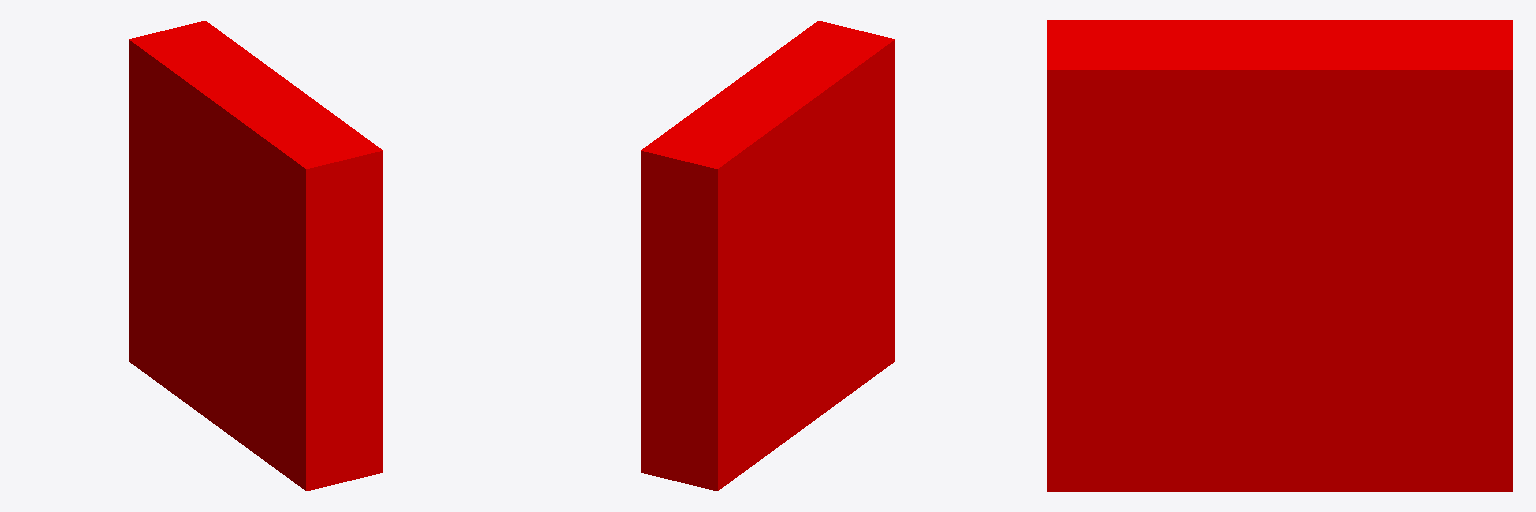
The robot description file, URDF, robot "striker":
<?xml version="0.0" ?>
<robot name="striker">
    <link name="baseLink">

        <contact>
       <!--      <lateral_friction value="100.0"/> -->
            <lateral_friction value="1.0"/>
            <rolling_friction value="0.0"/>
            <inertia_scaling value="3.0"/>
            <contact_cfm value="0.0"/>
            <contact_erp value="1.0"/>
        </contact>

        <inertial>
            <origin rpy="0 0 0" xyz="0 0 0"/>
             <mass value="0.5"/>
             <inertia ixx="1" ixy="0" ixz="0" iyy="1" iyz="0" izz="1"/>
        </inertial>

        <visual>
            <origin rpy="0 0 0" xyz="0 0 0"/>
            <geometry>
              <box size=".025 .1 .1"/>
            </geometry>
             <material name="red">
                <color rgba="1 0 0 1"/>
            </material>
        </visual>

        <collision>
            <origin rpy="0 0 0" xyz="0 0 0"/>
            <geometry>
                <box size=".025 .1 .1"/>
            </geometry>
        
<!--           <surface>
            <bounce>
              <restitution_coefficient>0.9</restitution_coefficient>
              <threshold>0</threshold>
            </bounce>
            <contact>
              <ode>
                <max_vel>10</max_vel>
              </ode>
            </contact>
          </surface> -->

        </collision>
    </link>
</robot>

--- What the picture shows (computed from the rendered views, not written in the file) ---
3 views of the same robot in one strip: view 1: azimuth 30°, elevation 25°; view 2: azimuth 150°, elevation 25°; view 3: azimuth 270°, elevation 25° (orthographic).
Model striker with 1 links and 0 joints (none), rooted at baseLink, posed every joint at zero.
Links seen in each view (by area): view 1: baseLink; view 2: baseLink; view 3: baseLink.
Link boxes in pixels (x1=…): baseLink: x1=129, y1=21, x2=382, y2=490; baseLink: x1=641, y1=21, x2=894, y2=490; baseLink: x1=1047, y1=20, x2=1512, y2=491.
Size in the robot's own frame: 0.025 by 0.1 by 0.1 metres.
Geometry: primitives only (box / cylinder / sphere), no mesh files.